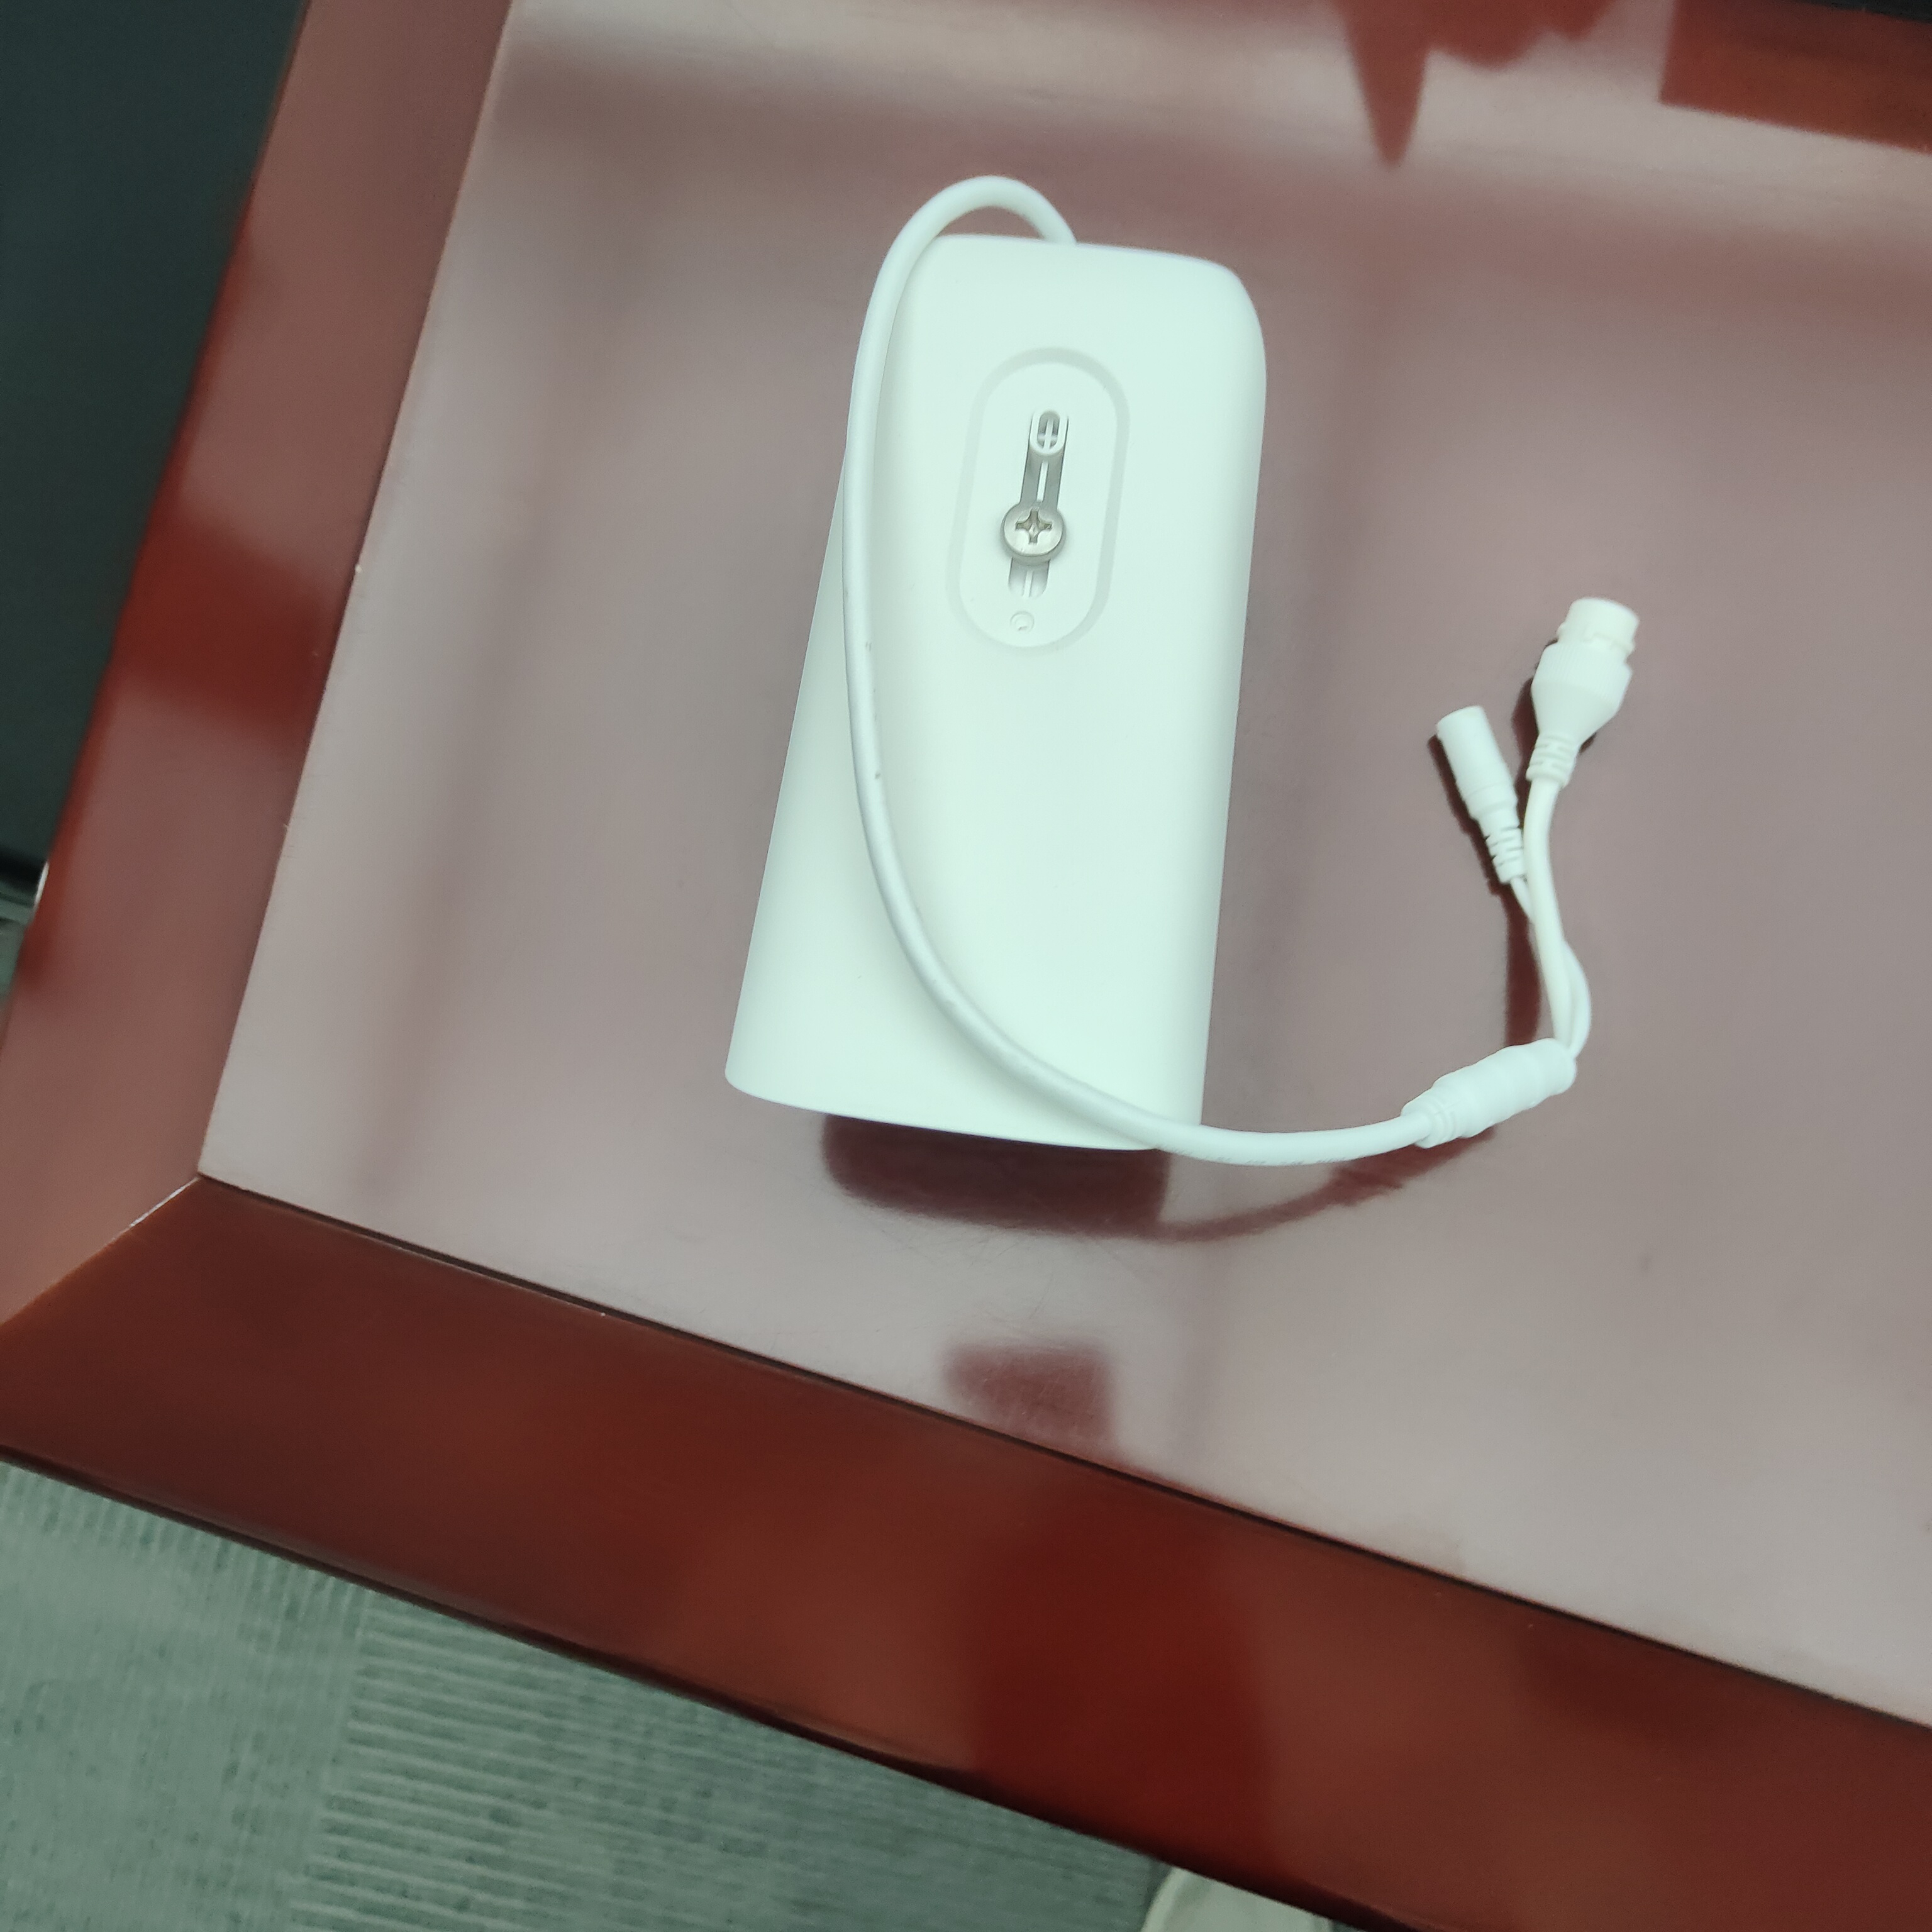hkws: (745, 179, 1313, 1224)
